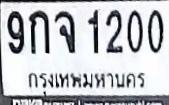0: (126, 9, 142, 53), (147, 10, 163, 52)
1: (87, 9, 99, 54)
2: (105, 9, 122, 53)
9: (7, 10, 24, 53)
A01: (29, 10, 50, 54)
A08: (54, 10, 75, 52)
BKK: (24, 67, 147, 95)
